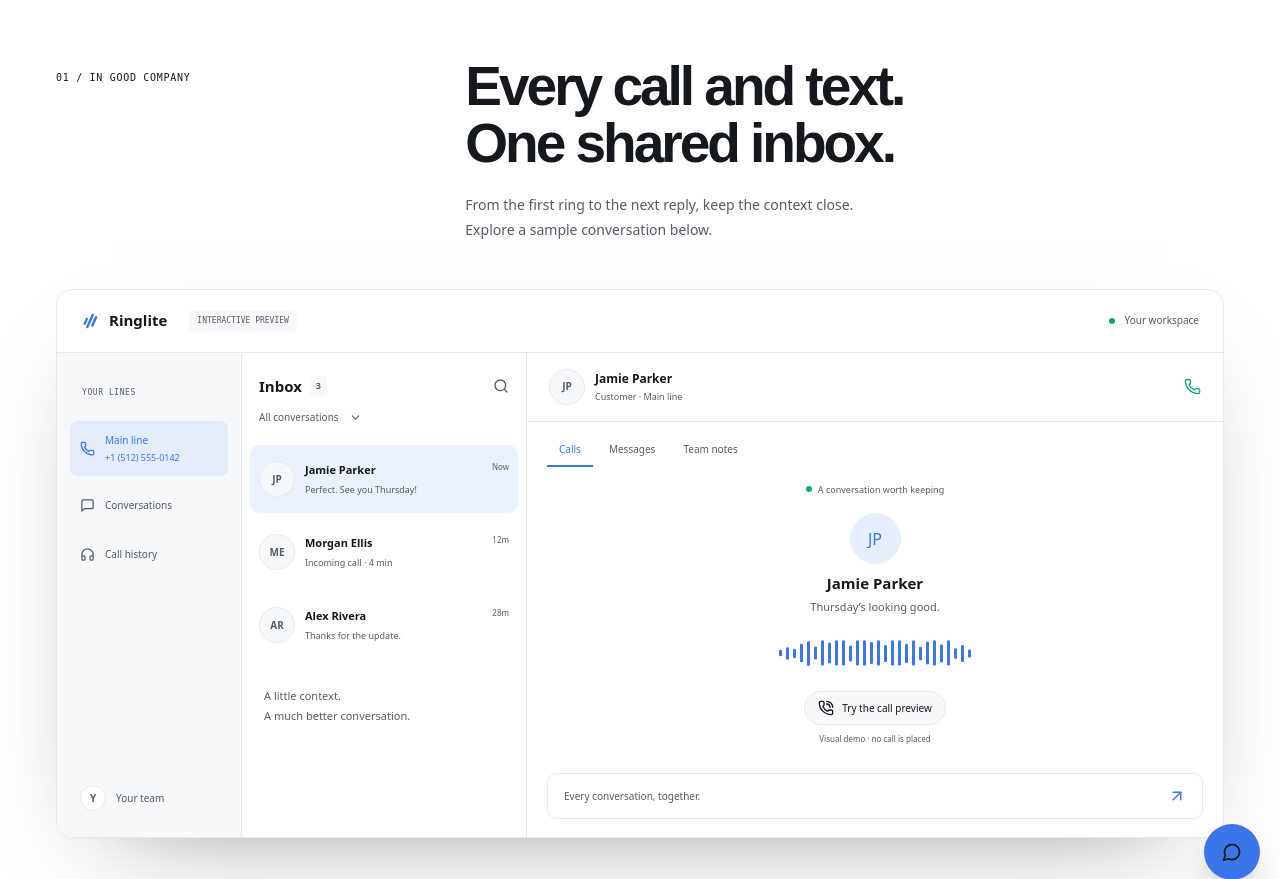
Test: Public landing routes › renders the homepage before authentication resolves and links to signbox
The width and height of the screenshot is (1280, 879).
(page scrolled)
Click the button "Messages" at (632, 450), box x1=597 y1=434 x2=667 y2=467
(page scrolled)
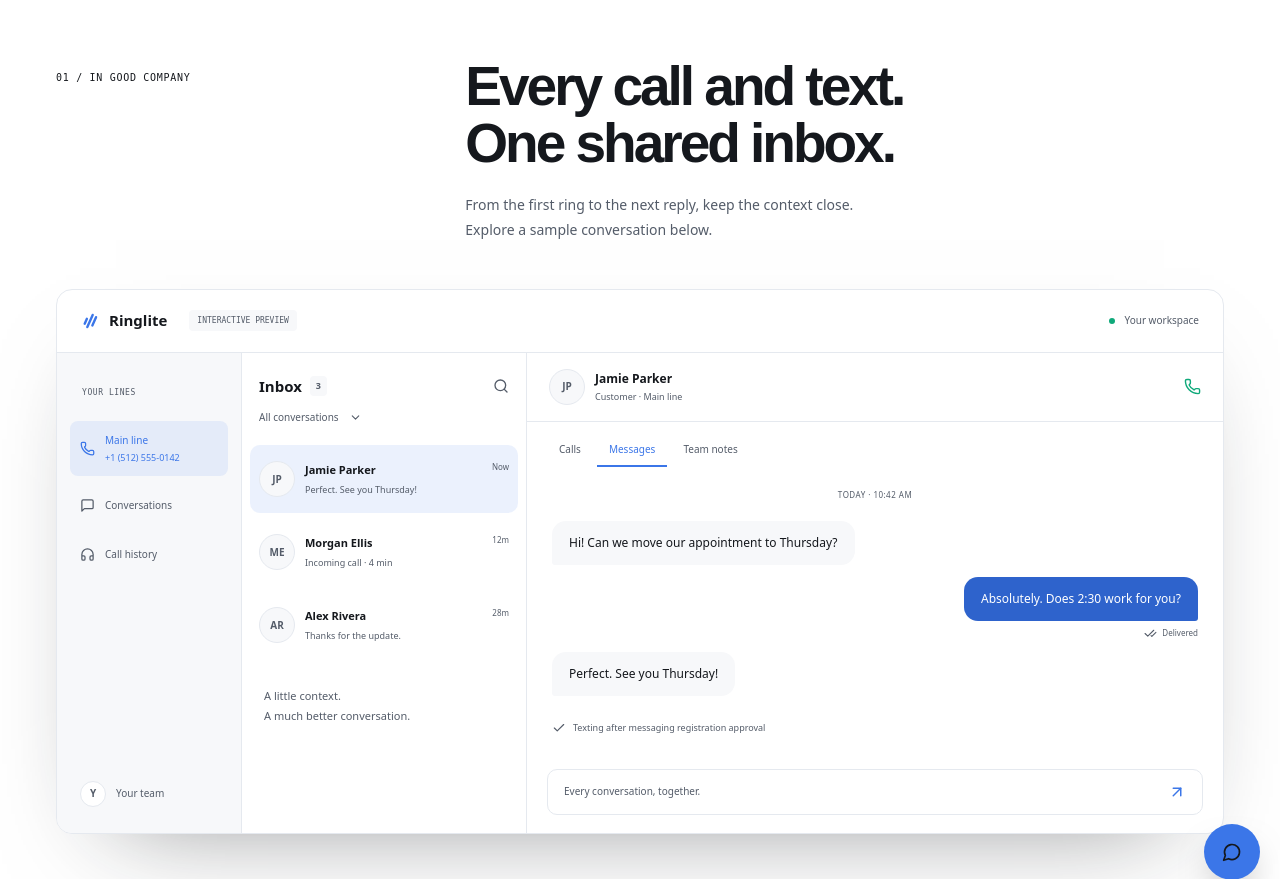
Expected: the text "Texting after messaging registration approval" is shown, x1=552 y1=721 x2=765 y2=735
